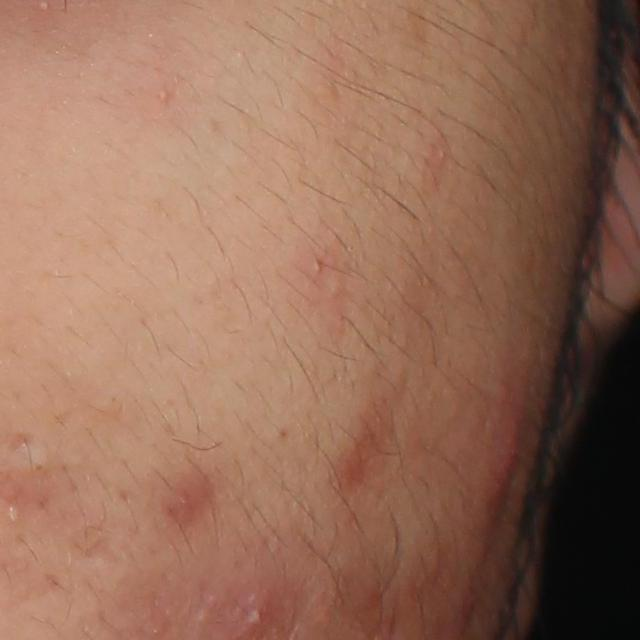atrophic_scar: (7, 429, 35, 454)
